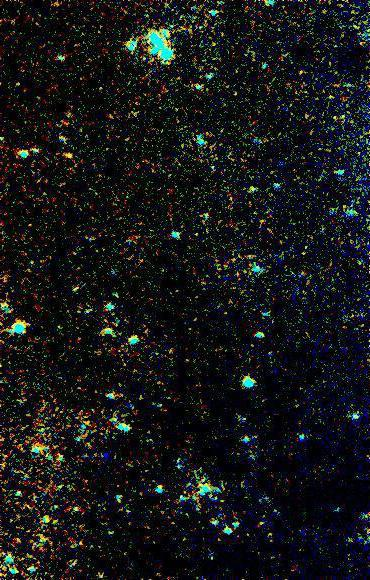star: (52, 140, 82, 170)
